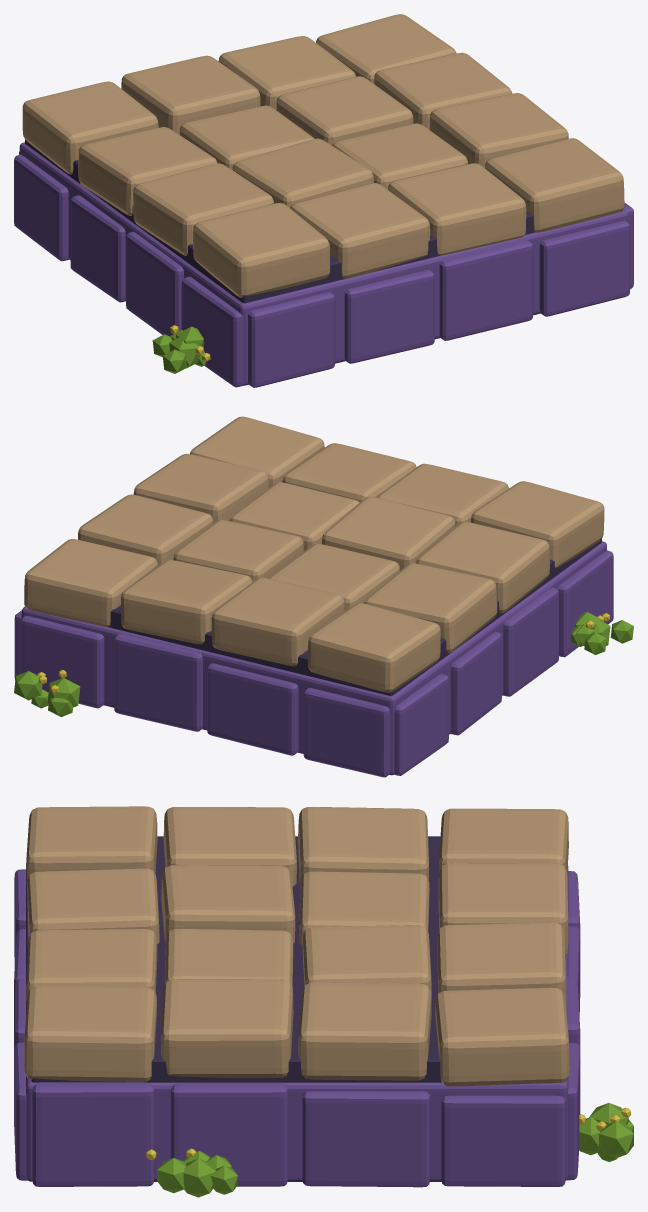
The model's file is FloorTile_1x1.glb.
3 renders of one model, top to bottom at view 1: azimuth 30°, elevation 25°; view 2: azimuth 150°, elevation 25°; view 3: azimuth 270°, elevation 25°, orthographic. The views are drawn at different scales.
Visible parts, largest first — view 1: FloorTile_1x1.001; view 2: FloorTile_1x1.001; view 3: FloorTile_1x1.001.
Part boxes in pixels (x1=…): FloorTile_1x1.001: x1=14, y1=14, x2=633, y2=387; FloorTile_1x1.001: x1=14, y1=416, x2=633, y2=777; FloorTile_1x1.001: x1=14, y1=806, x2=633, y2=1197.
Size of the model in its own units: 1.24 by 0.3198 by 1.13.
